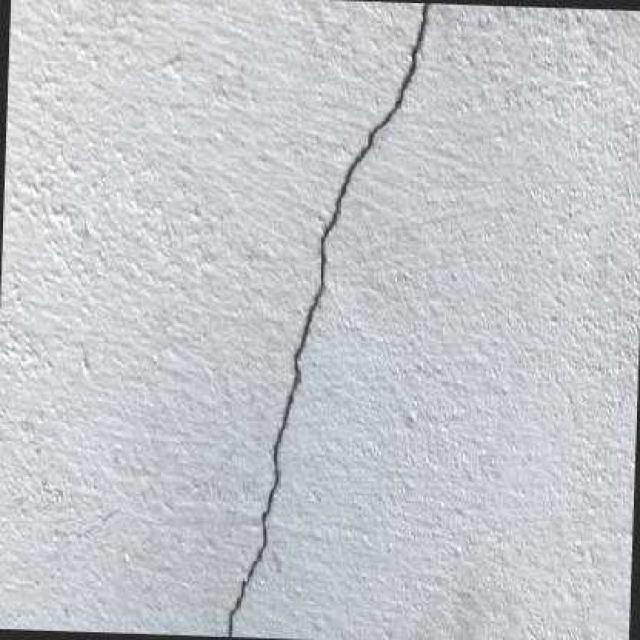D00: (228, 3, 431, 637)
